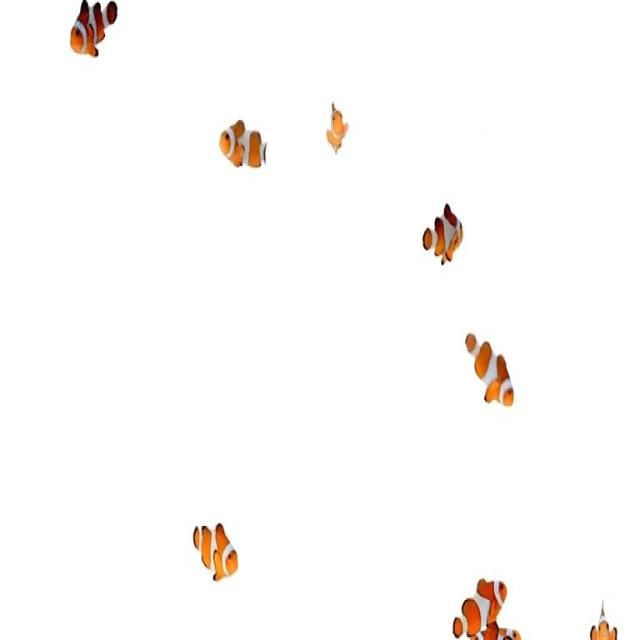fish: (464, 324, 516, 412), (450, 563, 509, 640), (216, 110, 272, 180), (416, 200, 467, 276), (68, 0, 127, 64), (190, 515, 240, 581), (327, 100, 351, 158)
